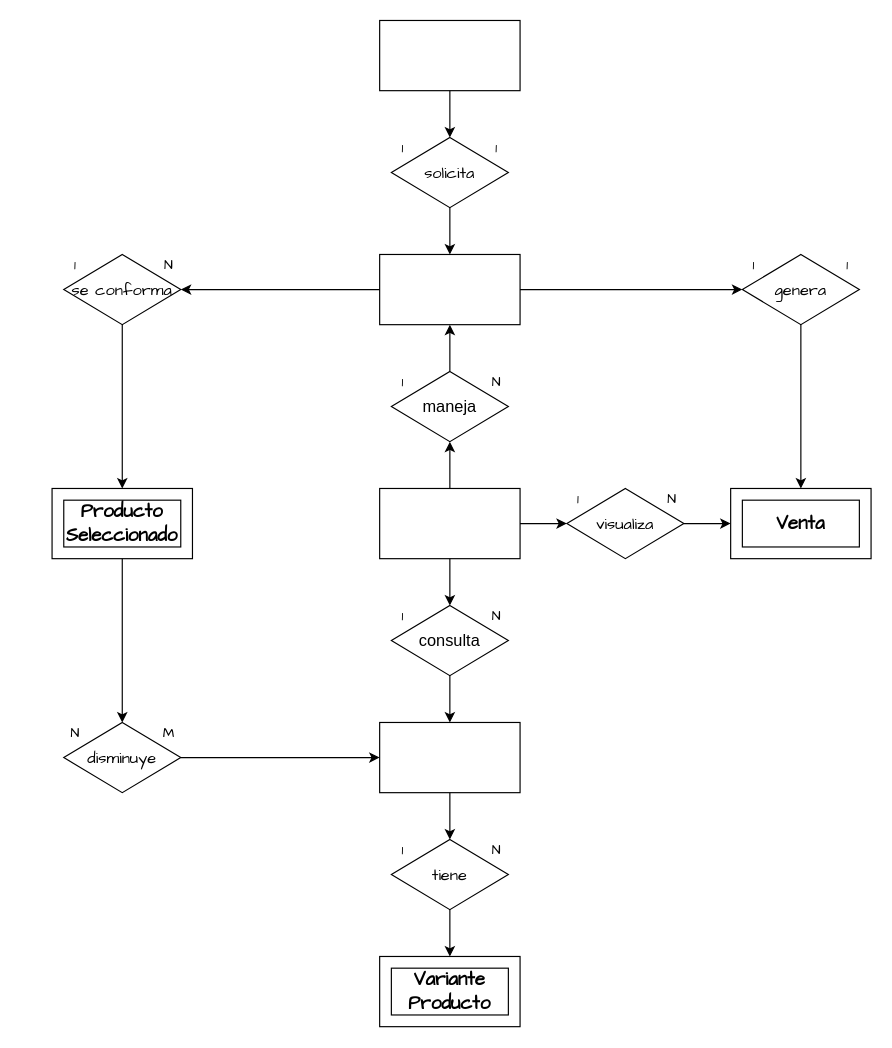
Image size: 892x1048. Some labels were removed from this diagram. The centre of each missing label's shape, as x and y in pixels:
Administrador: the point at 449,523
Cliente: the point at 449,55
Pedido: the point at 449,289
Producto: the point at 449,757
